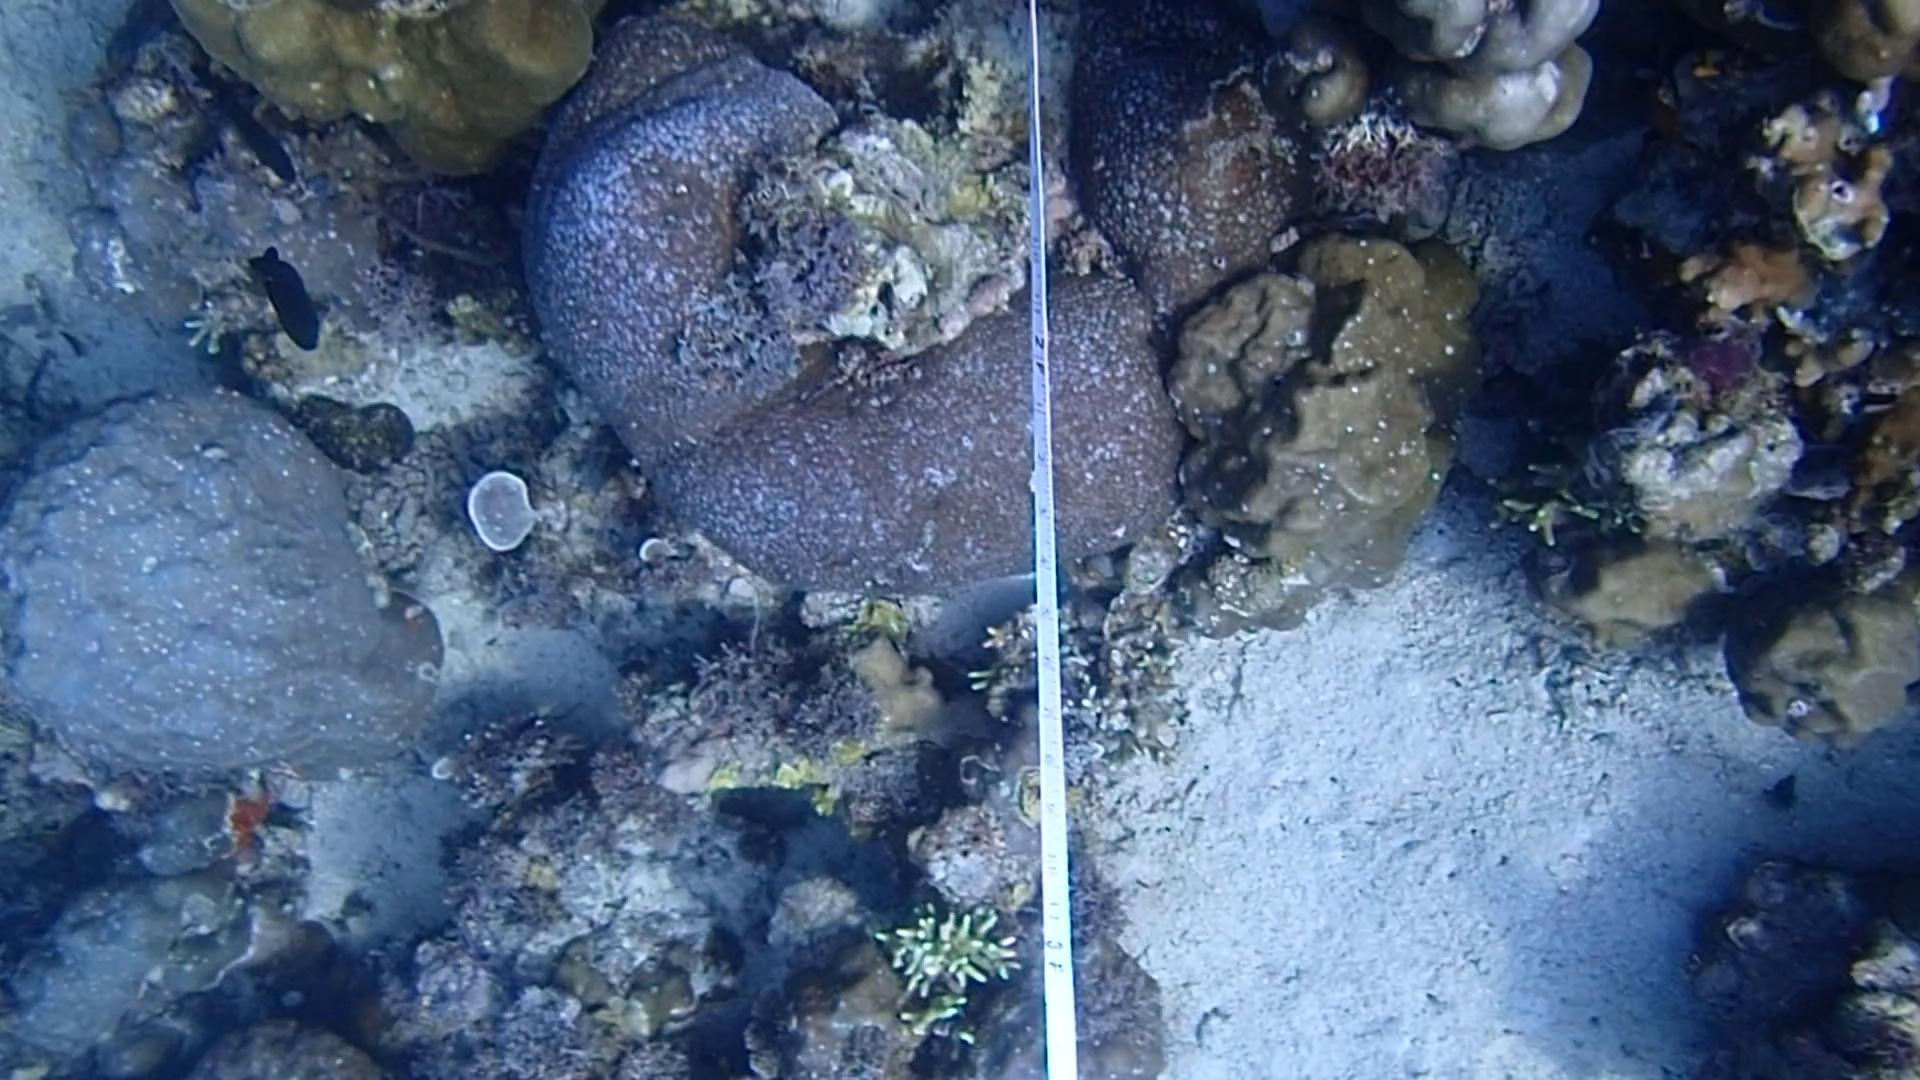Dark Fish: (252, 248, 330, 363)
